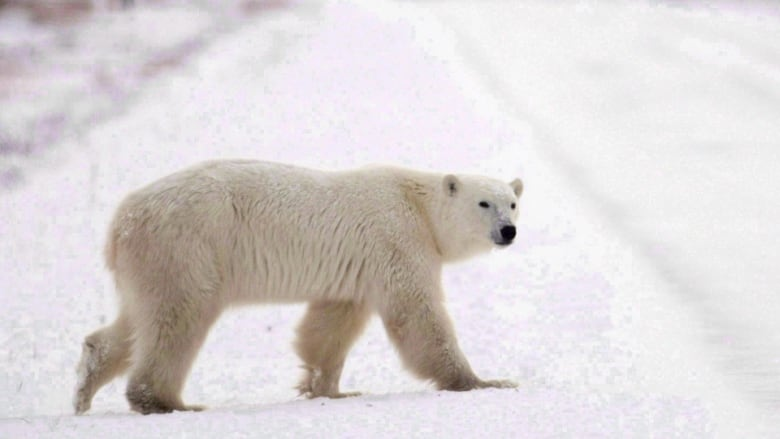Polar Bear: (62, 139, 586, 428)
